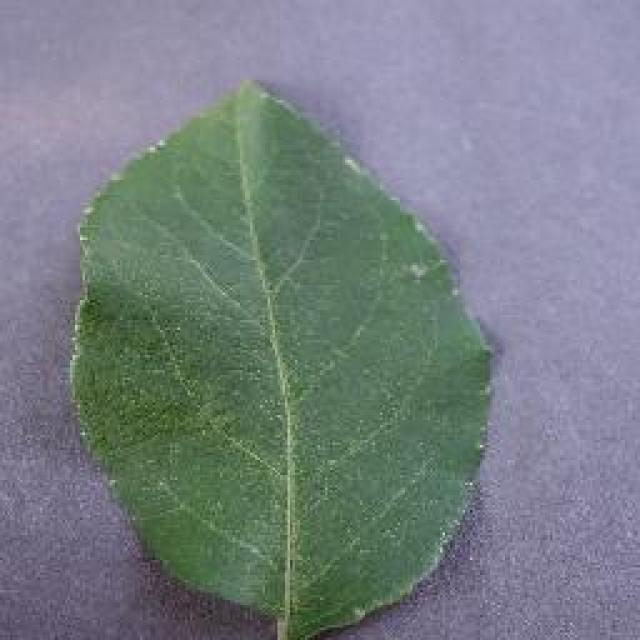apple healthy: (65, 75, 497, 637)
